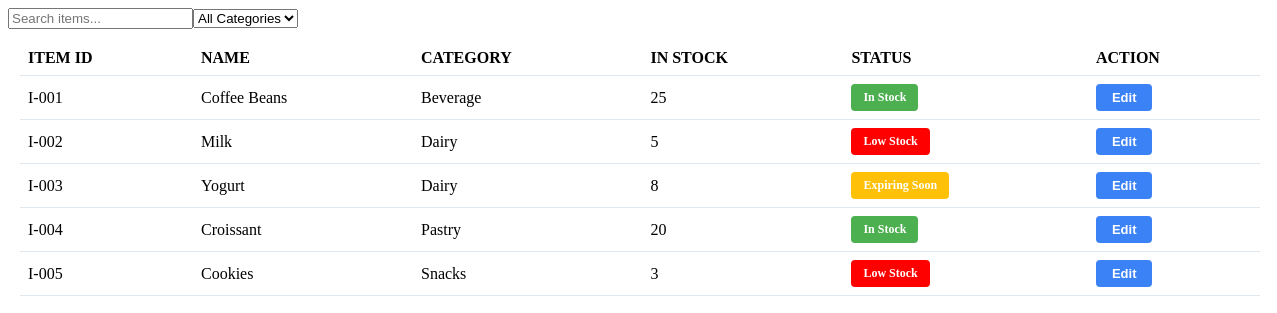
Scenario: InventoryTable Integration Tests › filters items by category
Select "Dairy" in the dropdown with test id "filter-dropdown" at (246, 18), box [193,9,298,28]
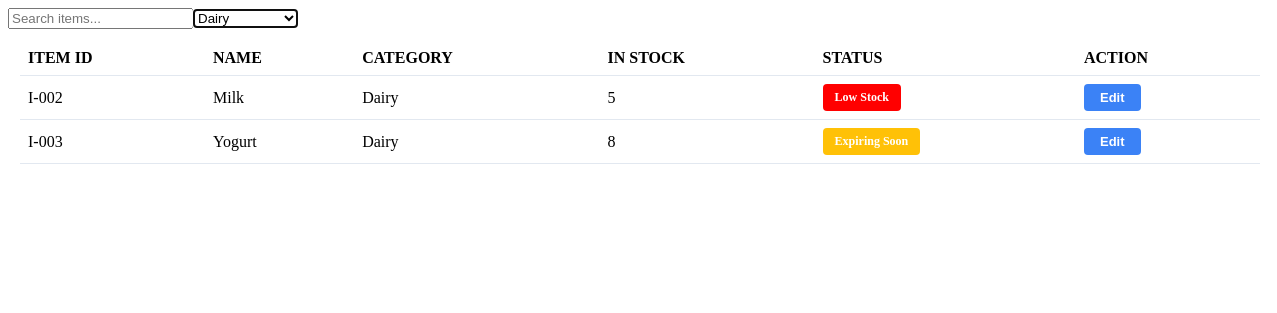
Expected: the text "Milk" is shown, [205,76,354,120]
Expected: the text "Coffee Beans" is gone
